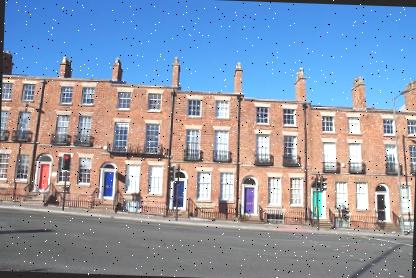door: (166, 168, 190, 214), (240, 175, 260, 219)
